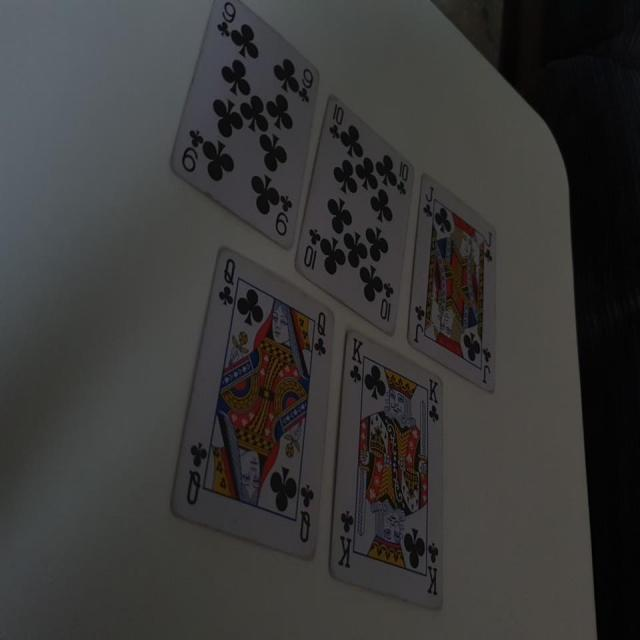10 of clubs: (294, 93, 418, 338)
9 of clubs: (168, 1, 322, 252)
jack of clubs: (404, 171, 497, 393)
king of clubs: (328, 327, 450, 612)
queen of clubs: (168, 244, 334, 561)
